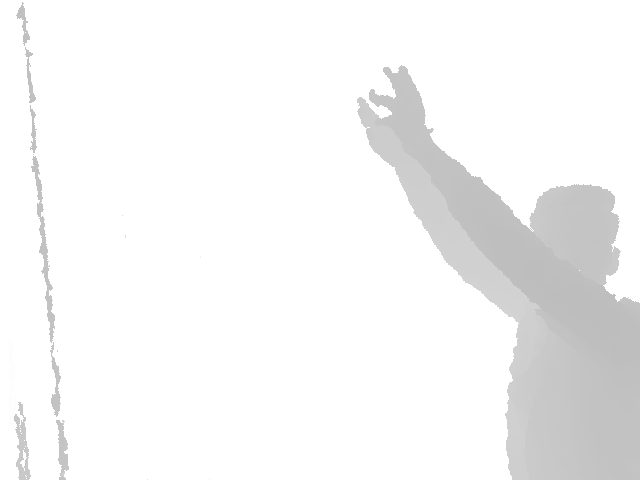hand: (368, 65, 435, 150), (356, 97, 424, 162)
head: (527, 184, 621, 299)
person: (356, 65, 640, 480)
